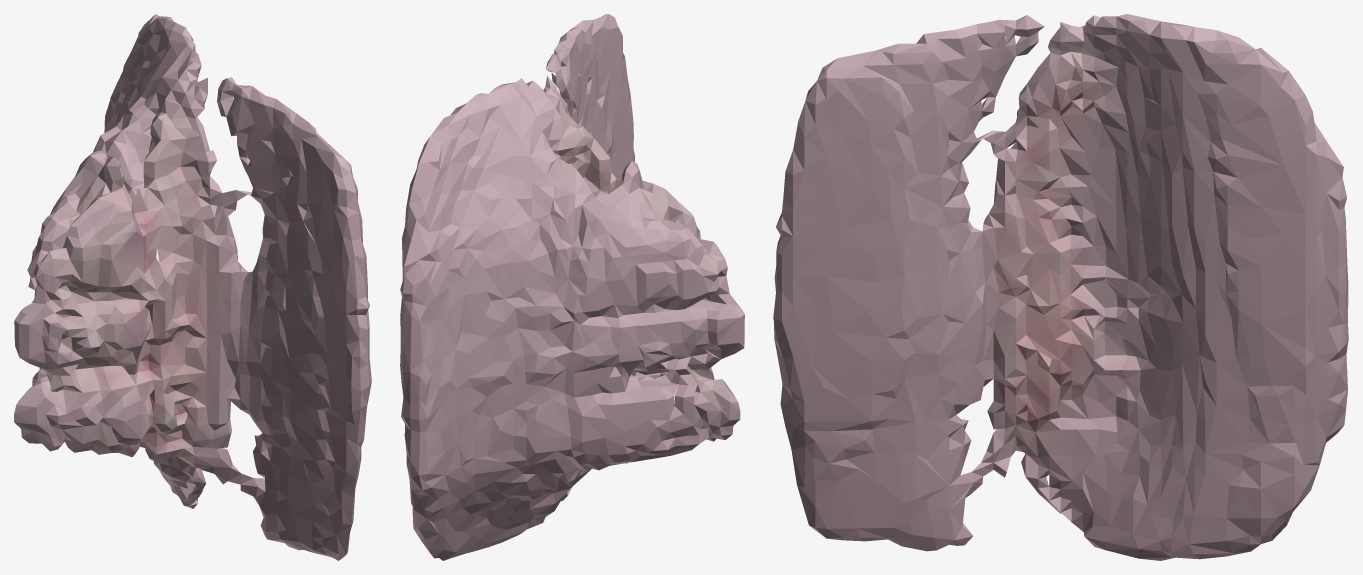
Rendered from brine_skipper.glb.
3 renders of one model, left to right at view 1: azimuth 30°, elevation 25°; view 2: azimuth 150°, elevation 25°; view 3: azimuth 270°, elevation 25°, orthographic. The views are drawn at different scales.
Visible parts, largest first — view 1: world; view 2: world; view 3: world.
Part boxes in pixels (x1,y1,x2,y2): world: (14,14,371,560); world: (400,14,744,560); world: (773,14,1348,560).
Size of the model in its own units: 0.1108 by 0.2 by 0.1923.
